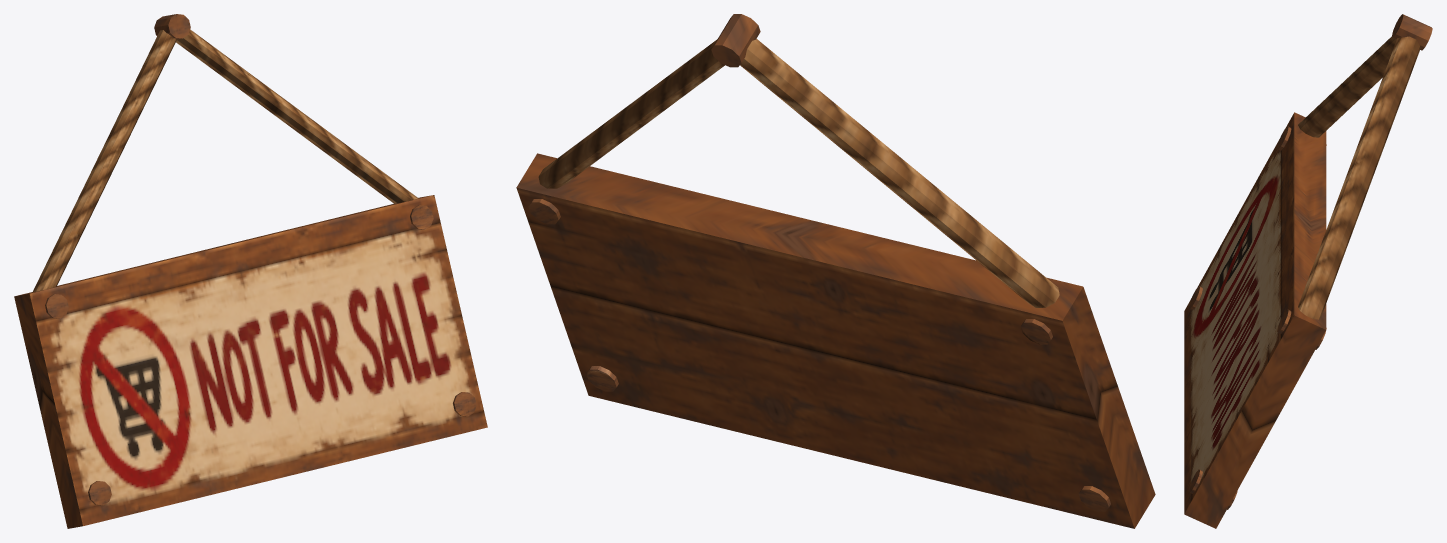
Rendered from satılmıyor tabelası.fbx.
3 views of the same model, side by side, from view 1: azimuth 30°, elevation 25°; view 2: azimuth 150°, elevation 25°; view 3: azimuth 270°, elevation 25° (orthographic). The views are drawn at different scales.
Visible parts, largest first — view 1: Plane; view 2: Plane; view 3: Plane.
Part boxes in pixels (left/top/right/bottom): Plane: left=14, top=14, right=487, bottom=528; Plane: left=516, top=14, right=1155, bottom=528; Plane: left=1184, top=14, right=1432, bottom=528.
Bounding box in the file's own units: 28.95 × 27.3 × 14.96.
1 material, 1 textured.
